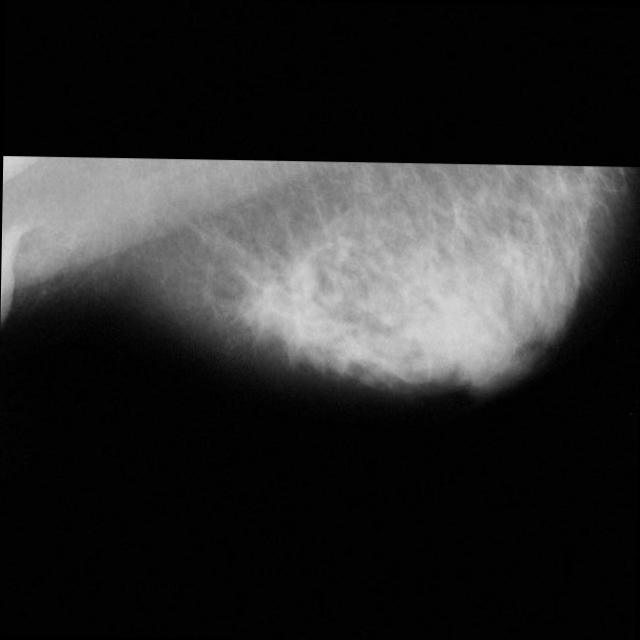ASYM: (268, 287, 330, 349)
